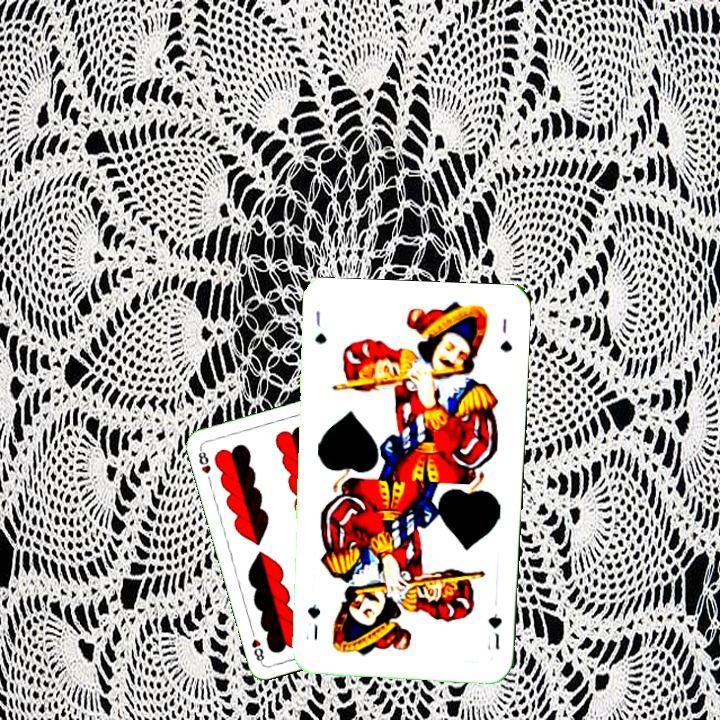GU: (484, 609, 504, 652), (311, 307, 329, 346)
H8: (194, 444, 213, 476)
